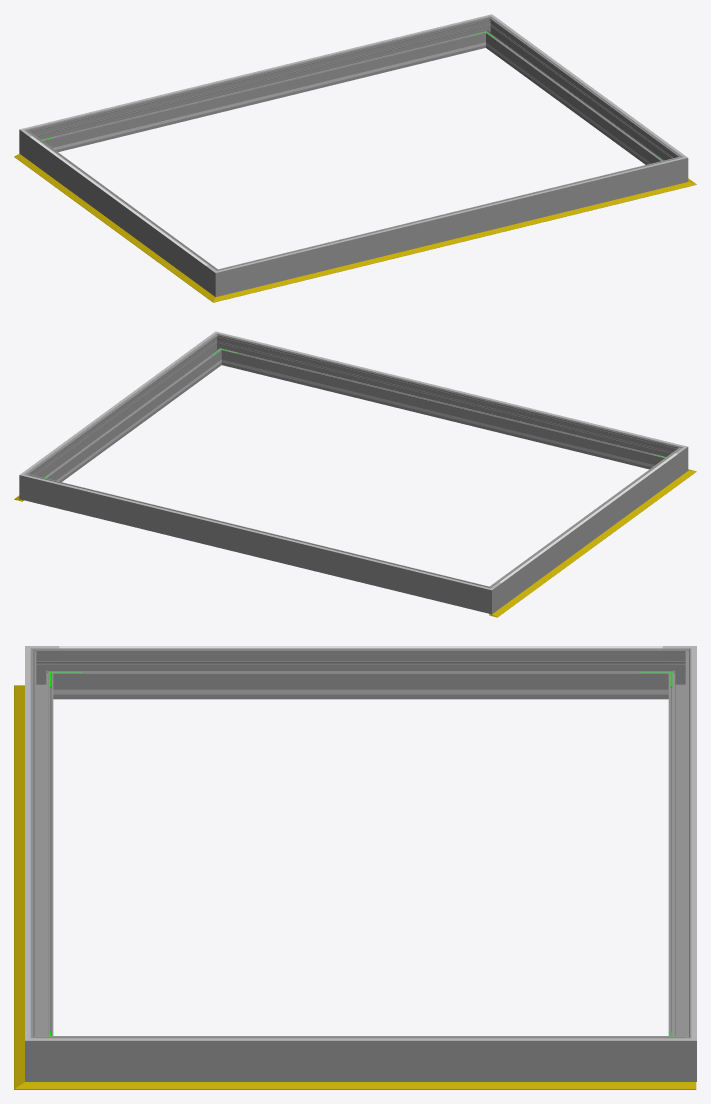
3 views of the same model, one above another, from view 1: azimuth 30°, elevation 25°; view 2: azimuth 150°, elevation 25°; view 3: azimuth 270°, elevation 25° (orthographic). The views are drawn at different scales.
Parts seen in each view (by area): view 1: 3DGeom-278, 3DGeom-300, 3DGeom-299, 3DGeom-270, 3DGeom-28, 3DGeom-38, 3DGeom-246, 3DGeom-318, 3DGeom-306, 3DGeom-272, 3DGeom-315, 3DGeom-305 (+2 smaller); view 2: 3DGeom-300, 3DGeom-278, 3DGeom-299, 3DGeom-270, 3DGeom-38, 3DGeom-241, 3DGeom-306, 3DGeom-318, 3DGeom-280, 3DGeom-315, 3DGeom-305, 3DGeom-239 (+1 smaller); view 3: 3DGeom-270, 3DGeom-299, 3DGeom-278, 3DGeom-300, 3DGeom-30, 3DGeom-28, 3DGeom-234, 3DGeom-306, 3DGeom-318, 3DGeom-305, 3DGeom-315, 3DGeom-292 (+3 smaller).
Boxes of the visible parts, x1,y1,x2,y2 form: 3DGeom-278: (38, 19, 482, 152); 3DGeom-300: (230, 159, 670, 292); 3DGeom-299: (487, 22, 675, 164); 3DGeom-270: (29, 135, 210, 289); 3DGeom-28: (227, 185, 679, 298); 3DGeom-38: (14, 154, 208, 294); 3DGeom-246: (58, 46, 469, 148); 3DGeom-318: (231, 161, 670, 268); 3DGeom-306: (37, 18, 475, 126); 3DGeom-272: (205, 264, 232, 296); 3DGeom-315: (30, 136, 207, 265); 3DGeom-305: (499, 21, 677, 150); 3DGeom-300: (224, 337, 669, 469); 3DGeom-278: (36, 477, 477, 609); 3DGeom-299: (32, 339, 219, 481); 3DGeom-270: (496, 452, 678, 606); 3DGeom-38: (489, 476, 686, 617); 3DGeom-241: (238, 363, 648, 466); 3DGeom-306: (37, 478, 475, 585); 3DGeom-318: (231, 335, 670, 443); 3DGeom-280: (474, 581, 501, 614); 3DGeom-315: (499, 453, 677, 582); 3DGeom-305: (29, 339, 207, 468); 3DGeom-239: (56, 367, 211, 481); 3DGeom-270: (59, 648, 662, 699); 3DGeom-299: (59, 1036, 662, 1081); 3DGeom-278: (668, 660, 691, 1035); 3DGeom-300: (30, 660, 53, 1035); 3DGeom-30: (48, 1082, 696, 1089); 3DGeom-28: (14, 697, 24, 1074); 3DGeom-234: (86, 689, 635, 694); 3DGeom-306: (691, 660, 696, 1026); 3DGeom-318: (25, 660, 30, 1026); 3DGeom-305: (59, 1038, 662, 1040); 3DGeom-315: (59, 646, 662, 648); 3DGeom-292: (25, 1026, 59, 1081).
Size of the model in its own units: 4.27 by 0.2195 by 3.05.
